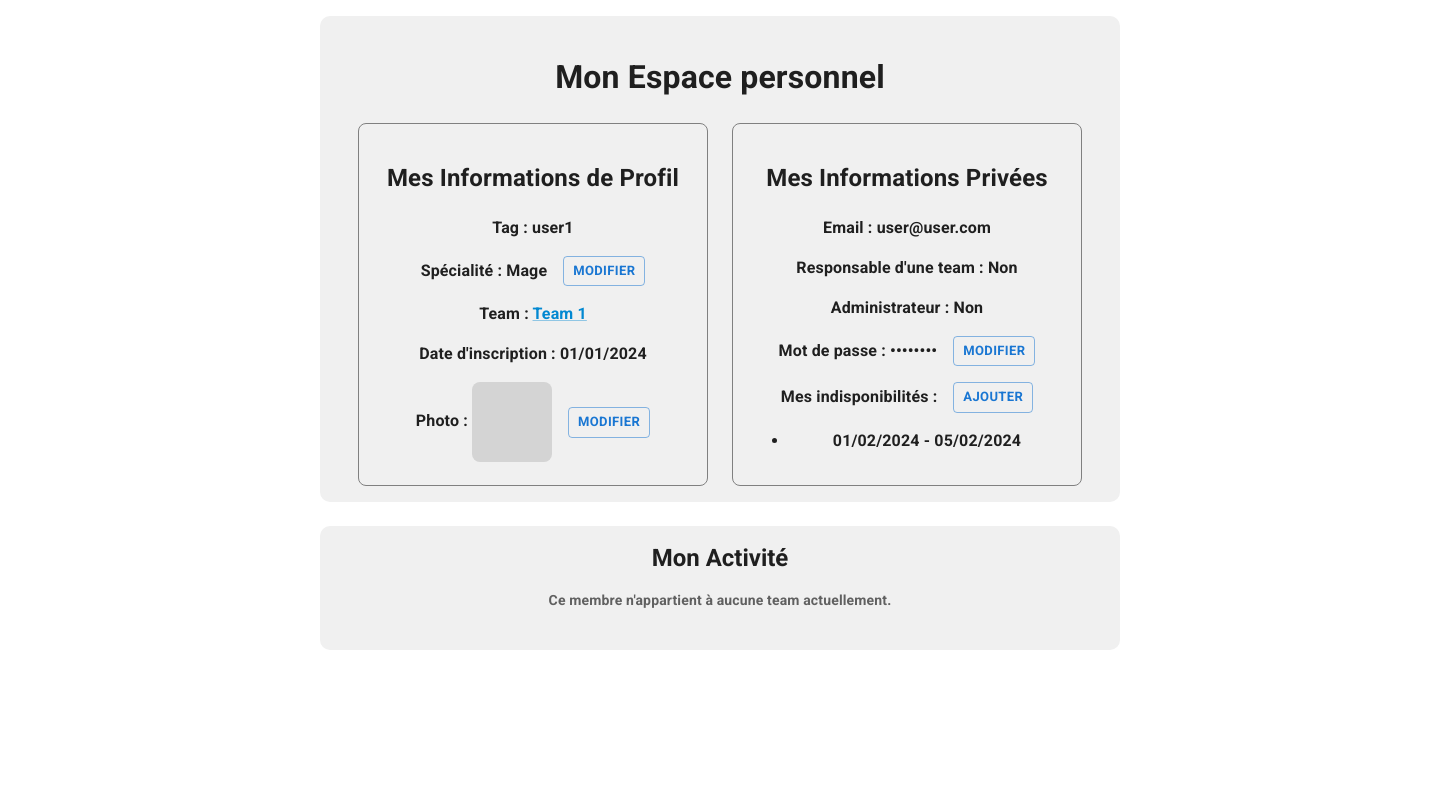
Scenario: ProfilePage › opens profile picture modal when button is clicked
Check: the text "user@user.com" is shown, box [877, 218, 991, 237]
Click the button "Modifier" next to "Photo :": {"x": 609, "y": 422} [568, 407, 650, 438]
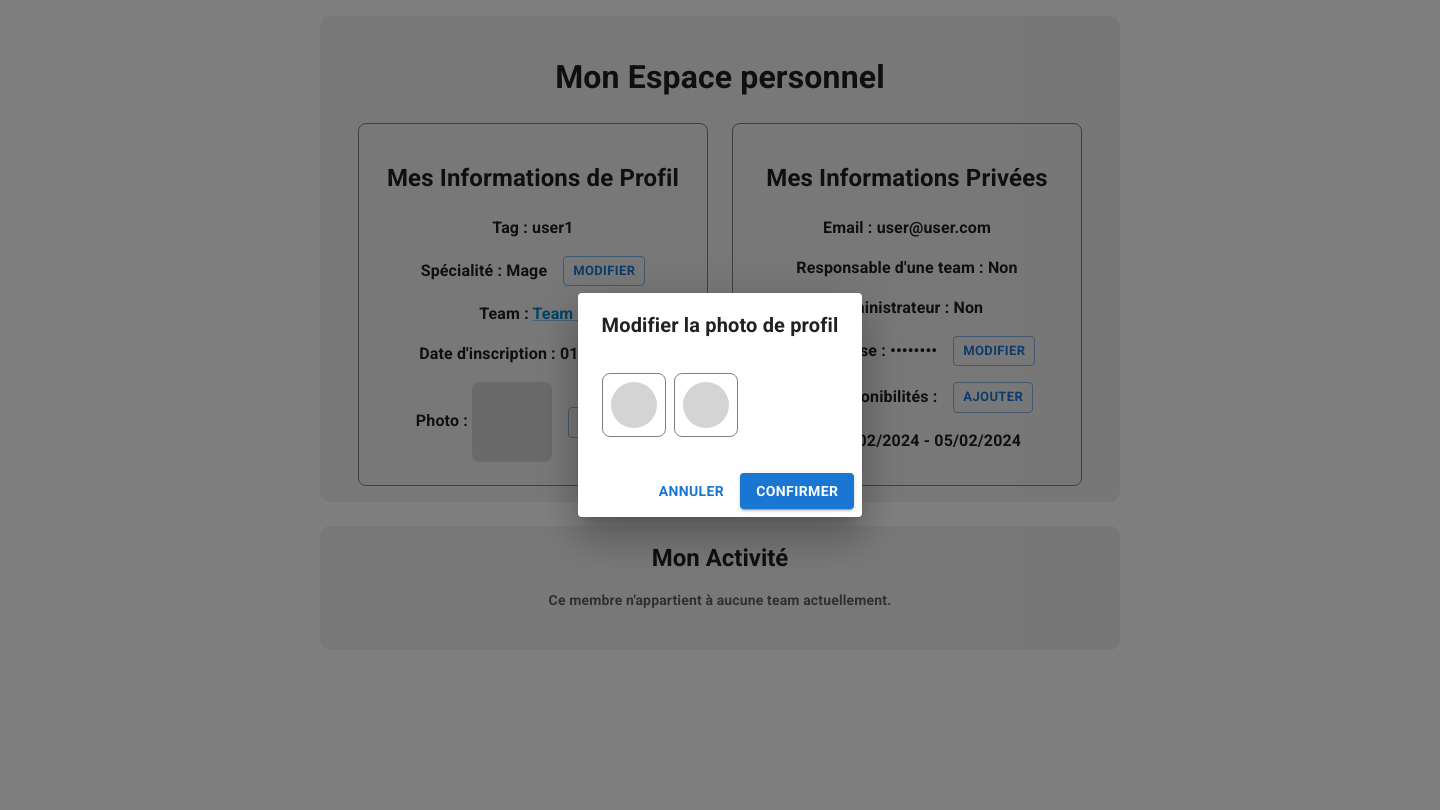
Check: the heading "Modifier la photo de profil" is shown, box [602, 313, 838, 337]
